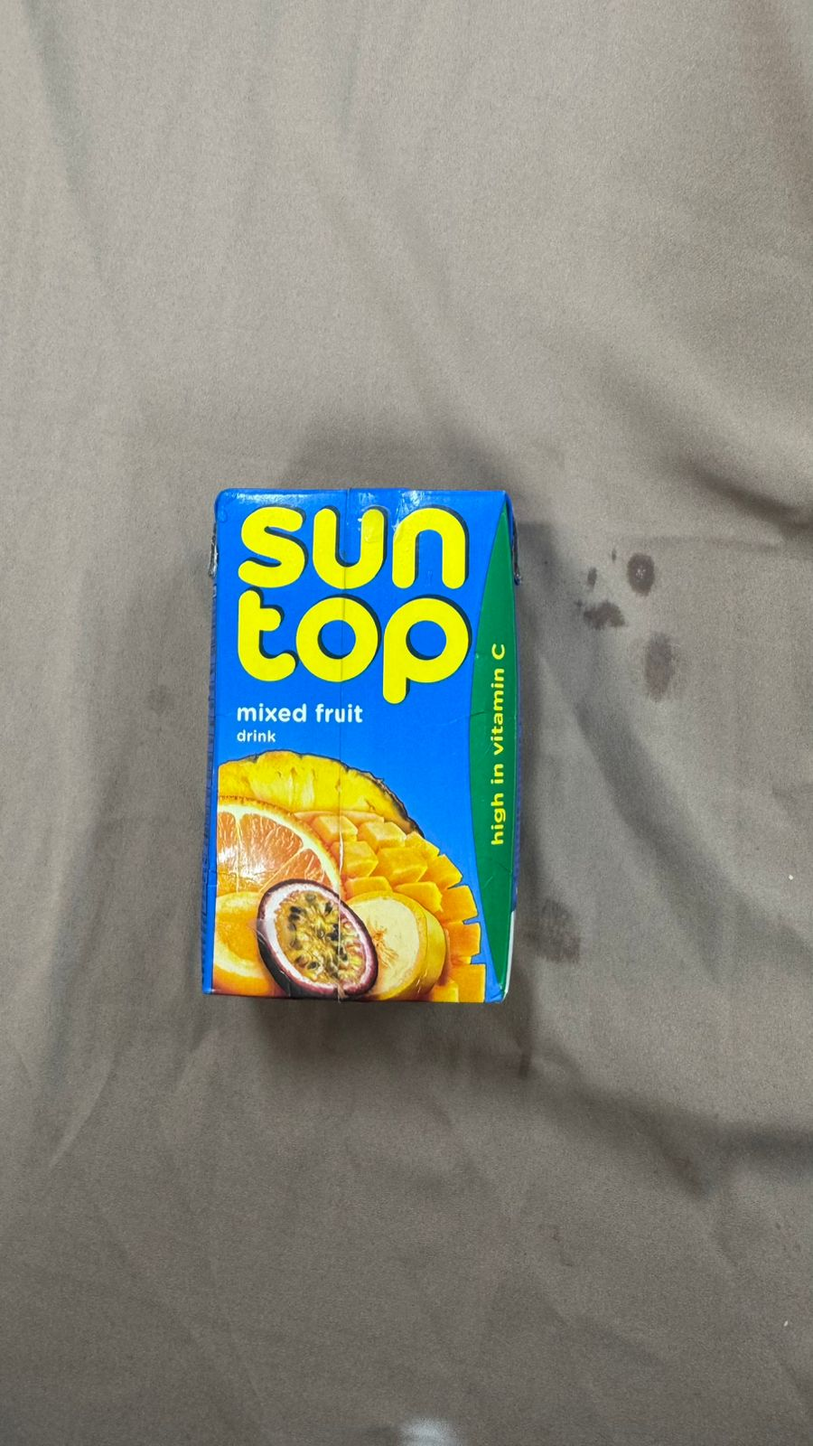paper: (81, 261, 732, 1418)
